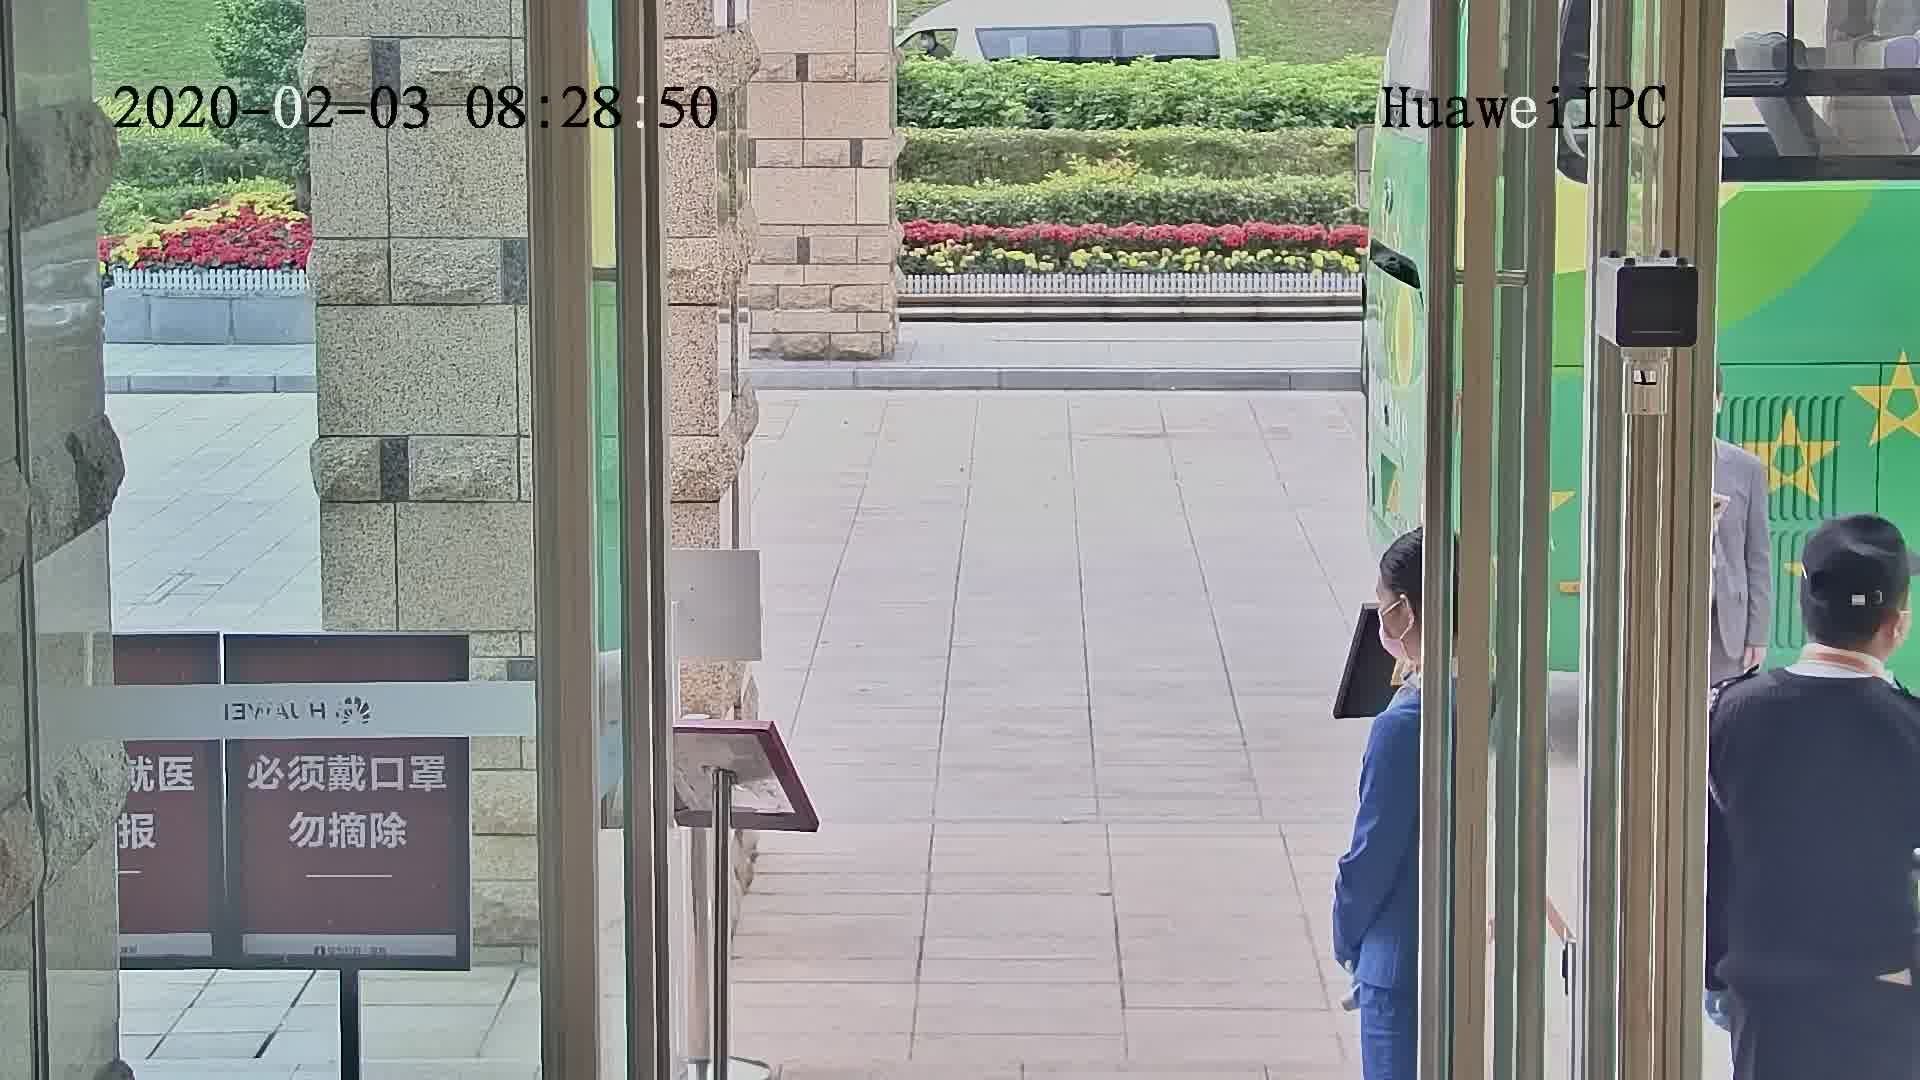person: (1715, 512, 1920, 778), (1358, 526, 1437, 765)
